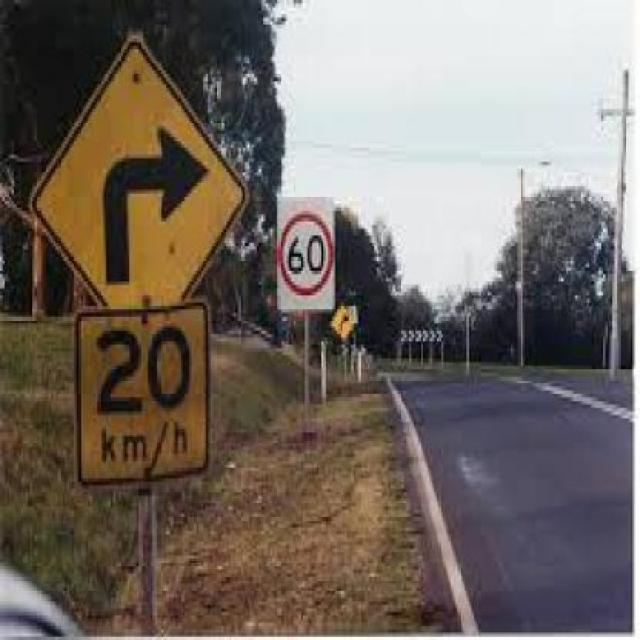forb_speed_over_60: (279, 208, 335, 302)
